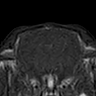Brain: (19, 29, 81, 71)
